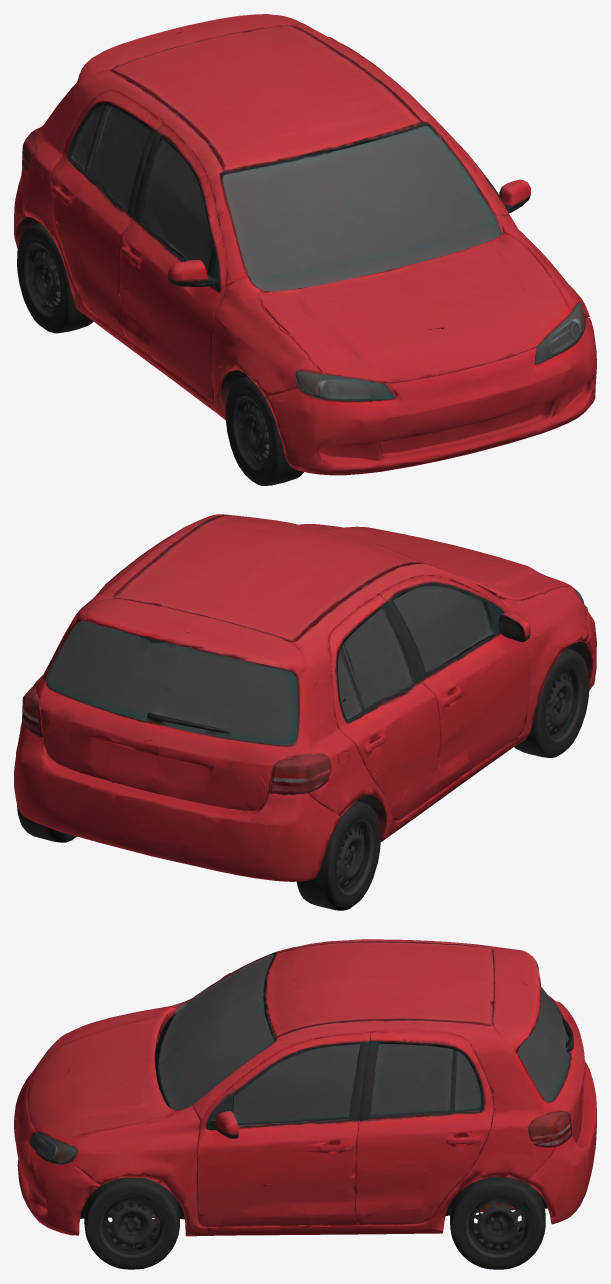
Rendered from hatchback.glb.
3 renders of one model, top to bottom at view 1: azimuth 30°, elevation 25°; view 2: azimuth 150°, elevation 25°; view 3: azimuth 270°, elevation 25°, orthographic. The views are drawn at different scales.
Parts seen in each view (by area): view 1: tripo_node_07aa2e83-a791-4fec-a80a-95529a430e9d; view 2: tripo_node_07aa2e83-a791-4fec-a80a-95529a430e9d; view 3: tripo_node_07aa2e83-a791-4fec-a80a-95529a430e9d.
Part boxes in pixels (bbox=[...]): tripo_node_07aa2e83-a791-4fec-a80a-95529a430e9d: bbox=[14, 14, 596, 485]; tripo_node_07aa2e83-a791-4fec-a80a-95529a430e9d: bbox=[14, 514, 596, 910]; tripo_node_07aa2e83-a791-4fec-a80a-95529a430e9d: bbox=[14, 939, 596, 1269].
Size of the model in its own units: 0.6107 by 0.4217 by 0.9799.
Materials: 1 (1 with a texture image).
